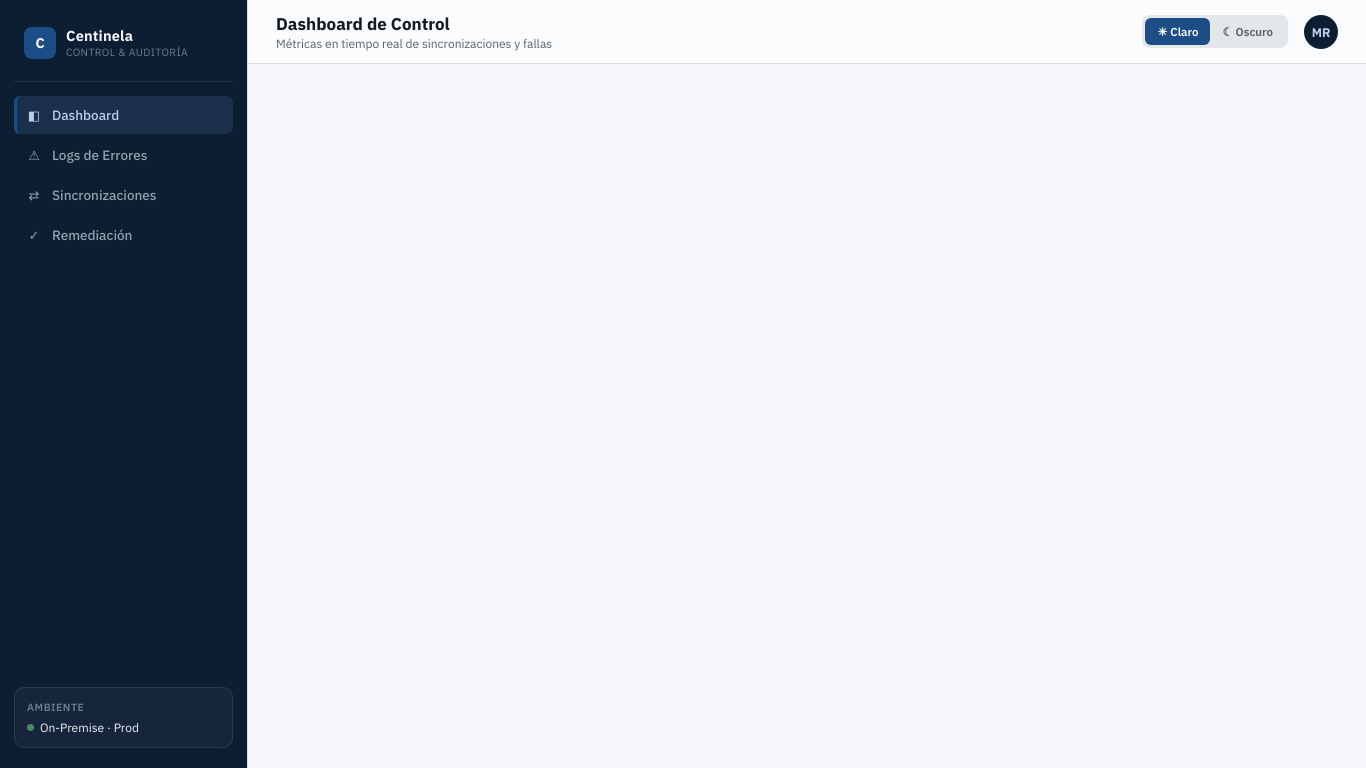
Test: AppLayout shell (R1) › navigates to /logs: route, header title and active nav update
Click the link "⚠ Logs de Errores" at [88, 155], box [28,146,147,164]
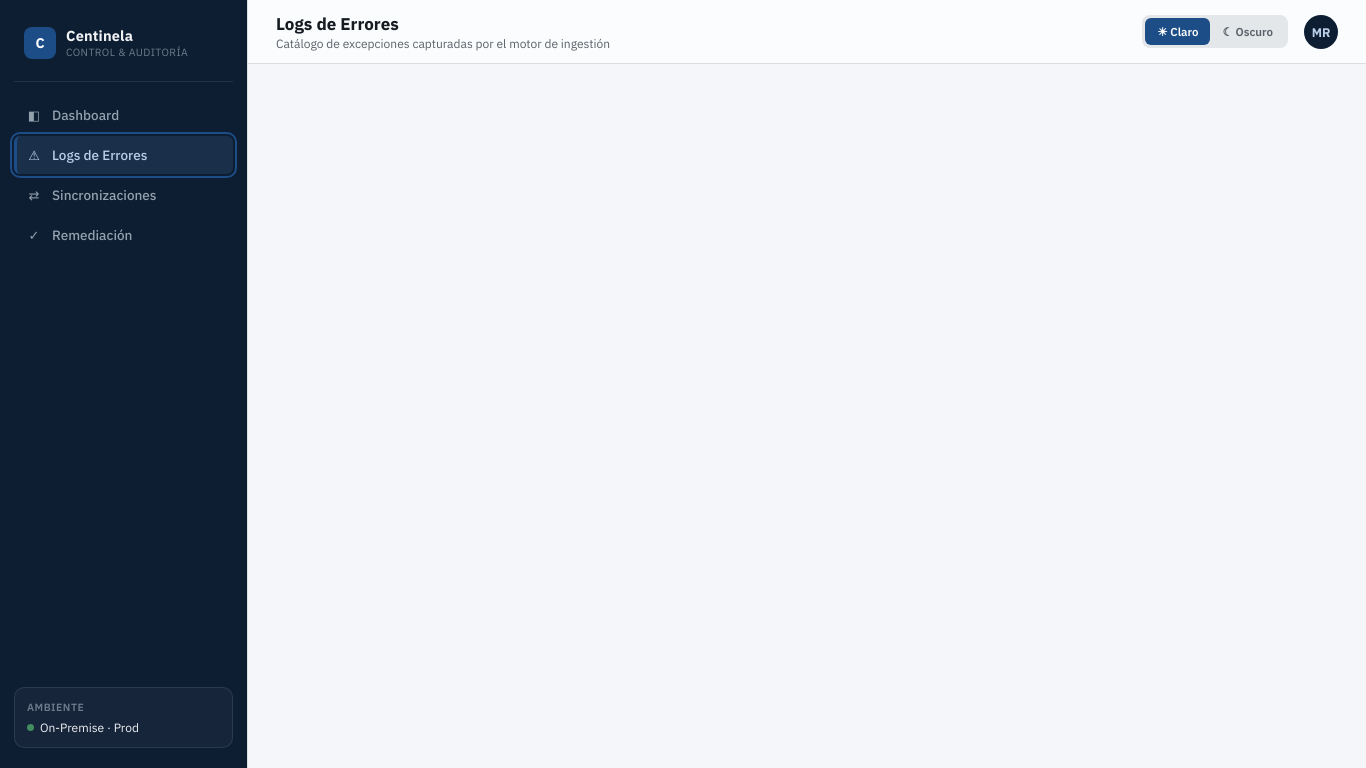
Now the heading "Logs de Errores" is shown, box [276,12,399,34]
Now the text "Catálogo de excepciones capturadas por el motor de ingestión" is shown, box [276,36,610,50]
